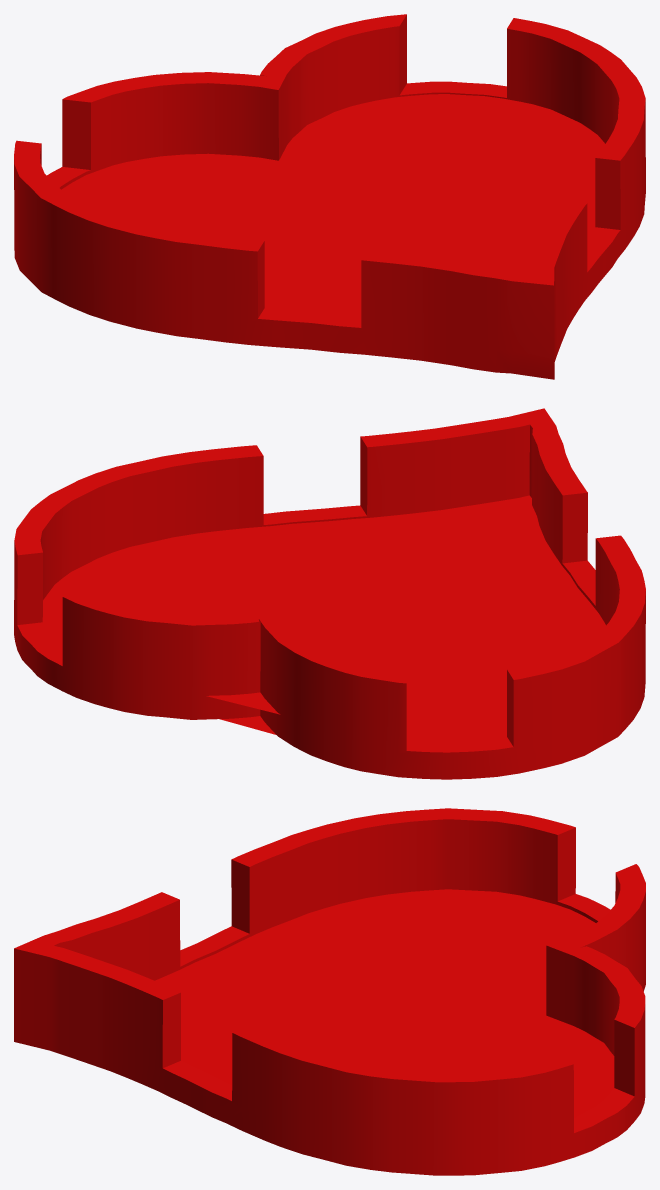
File: Organ_Heart_4_Rectangular_Cuts.fbx
3 renders of one model, top to bottom at view 1: azimuth 30°, elevation 25°; view 2: azimuth 150°, elevation 25°; view 3: azimuth 270°, elevation 25°, orthographic.
Parts seen in each view (by area): view 1: polySurface20; view 2: polySurface20; view 3: polySurface20.
Part boxes in pixels (box(x1,y1,x2,y2)): polySurface20: box(14, 14, 645, 379); polySurface20: box(14, 408, 645, 779); polySurface20: box(14, 808, 645, 1175).
Size of the model in its own units: 5.55 by 0.8987 by 5.35.
